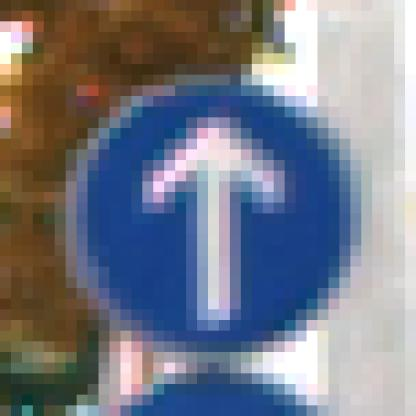AheadOnly: (67, 65, 362, 353)
